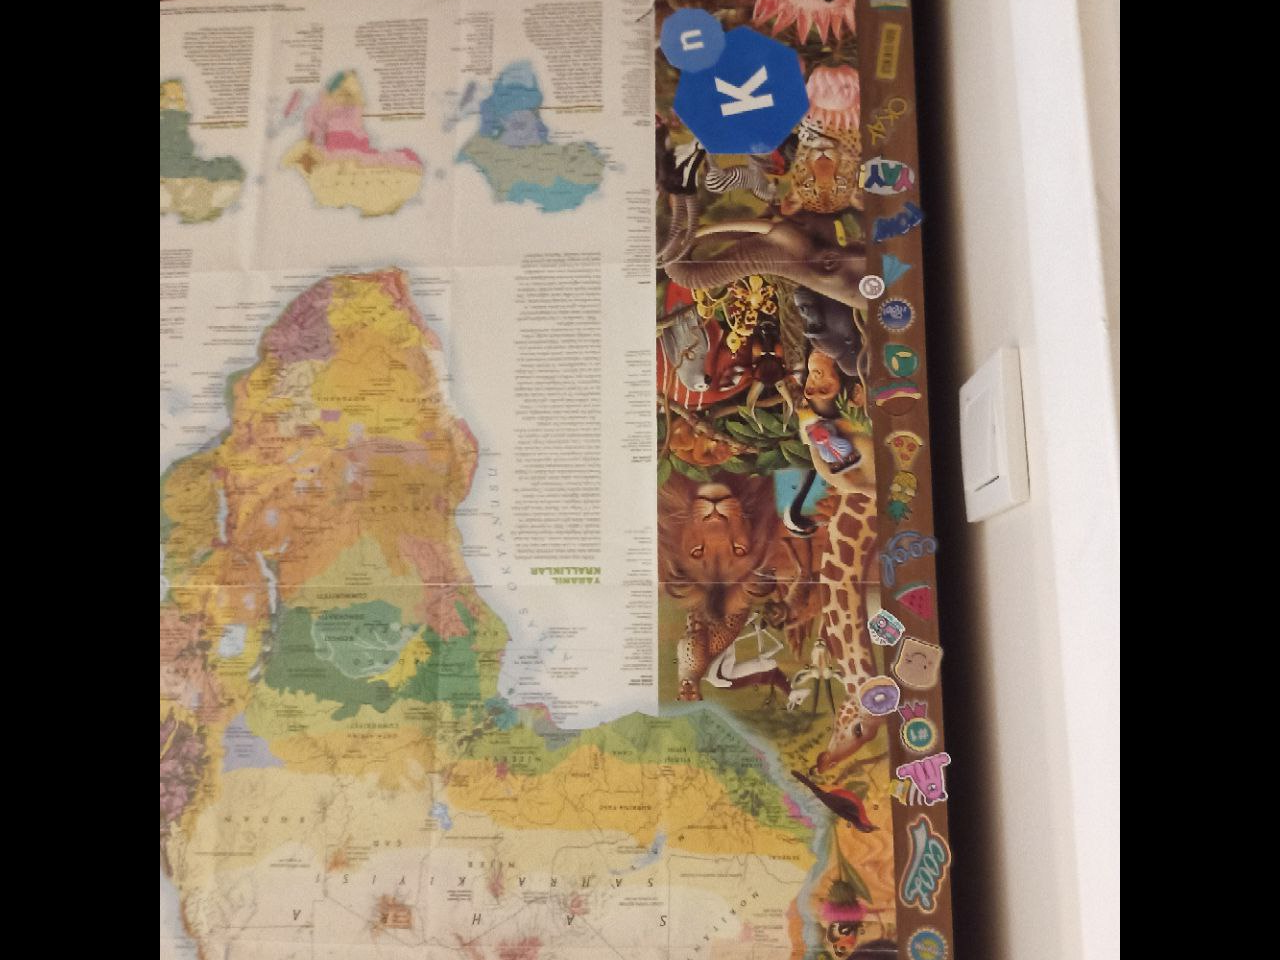knative: (657, 6, 811, 154)
